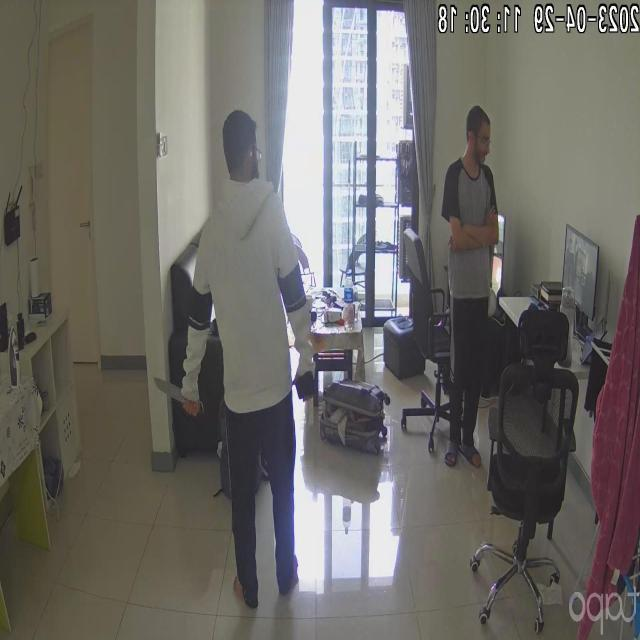Knife: (145, 367, 213, 424)
